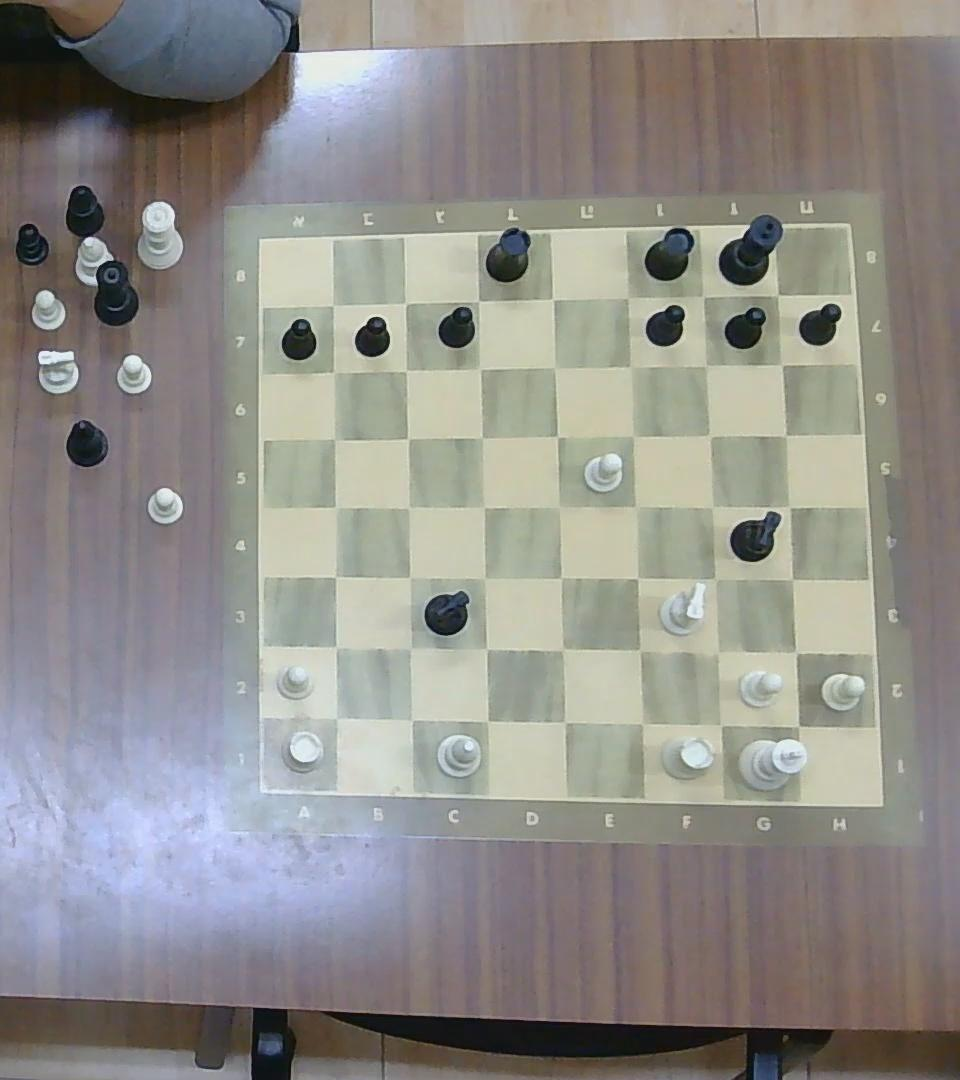xcorner: (624, 705, 658, 739), (702, 707, 737, 740), (781, 708, 813, 742), (701, 635, 734, 667), (470, 704, 502, 736), (548, 705, 579, 738), (624, 633, 655, 665), (547, 633, 578, 665), (394, 703, 425, 734), (320, 701, 351, 732), (470, 632, 501, 663), (780, 637, 811, 668), (699, 563, 730, 594), (622, 561, 652, 592), (394, 632, 424, 663), (320, 631, 350, 661), (621, 491, 651, 521), (547, 563, 576, 593), (320, 562, 350, 591), (776, 564, 806, 593), (615, 351, 645, 380), (470, 562, 499, 591), (394, 562, 423, 591), (698, 491, 727, 520), (775, 491, 804, 520), (618, 421, 648, 449), (545, 491, 573, 520), (470, 491, 498, 520), (466, 421, 495, 449), (543, 421, 571, 448), (395, 492, 423, 519), (322, 492, 350, 519), (614, 283, 642, 310), (538, 285, 566, 312), (318, 292, 346, 318), (696, 422, 723, 448), (540, 353, 567, 379), (693, 351, 720, 377), (393, 424, 421, 449), (465, 355, 493, 380), (392, 356, 418, 382), (465, 287, 491, 313), (322, 424, 348, 449), (690, 284, 716, 309), (768, 350, 794, 375), (322, 358, 348, 383), (773, 421, 798, 445), (393, 290, 418, 313), (767, 284, 790, 306)
